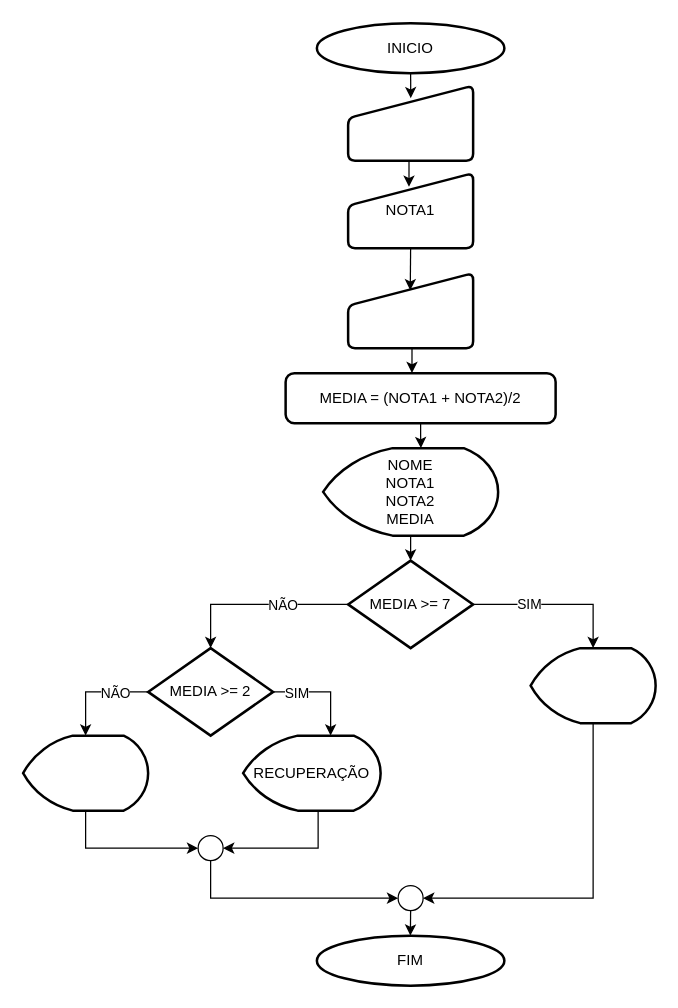
Some shapes in this 678 by 1008 pixel diagram are drawn without their labels. Each missing label, with the centre of its shape:
"APROVADO" goes at [592,685].
"NOME" goes at [410,122].
"NOTA2" goes at [410,310].
"REPROVADO" goes at [85,772].
